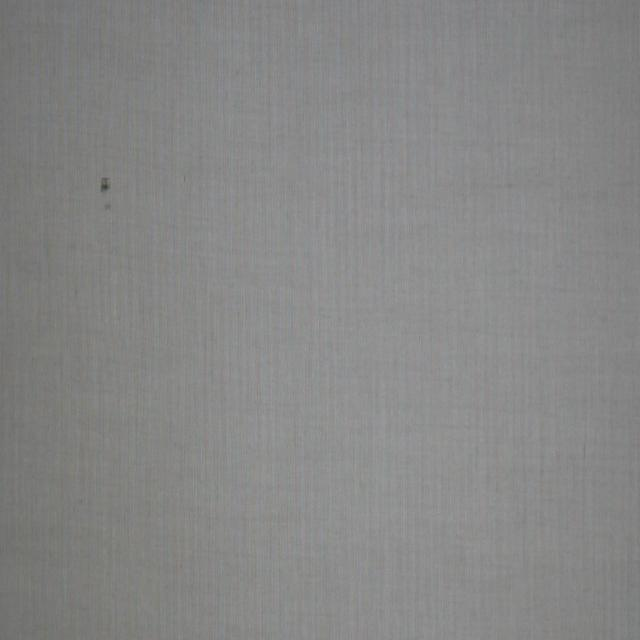dirty: (100, 174, 109, 196)
